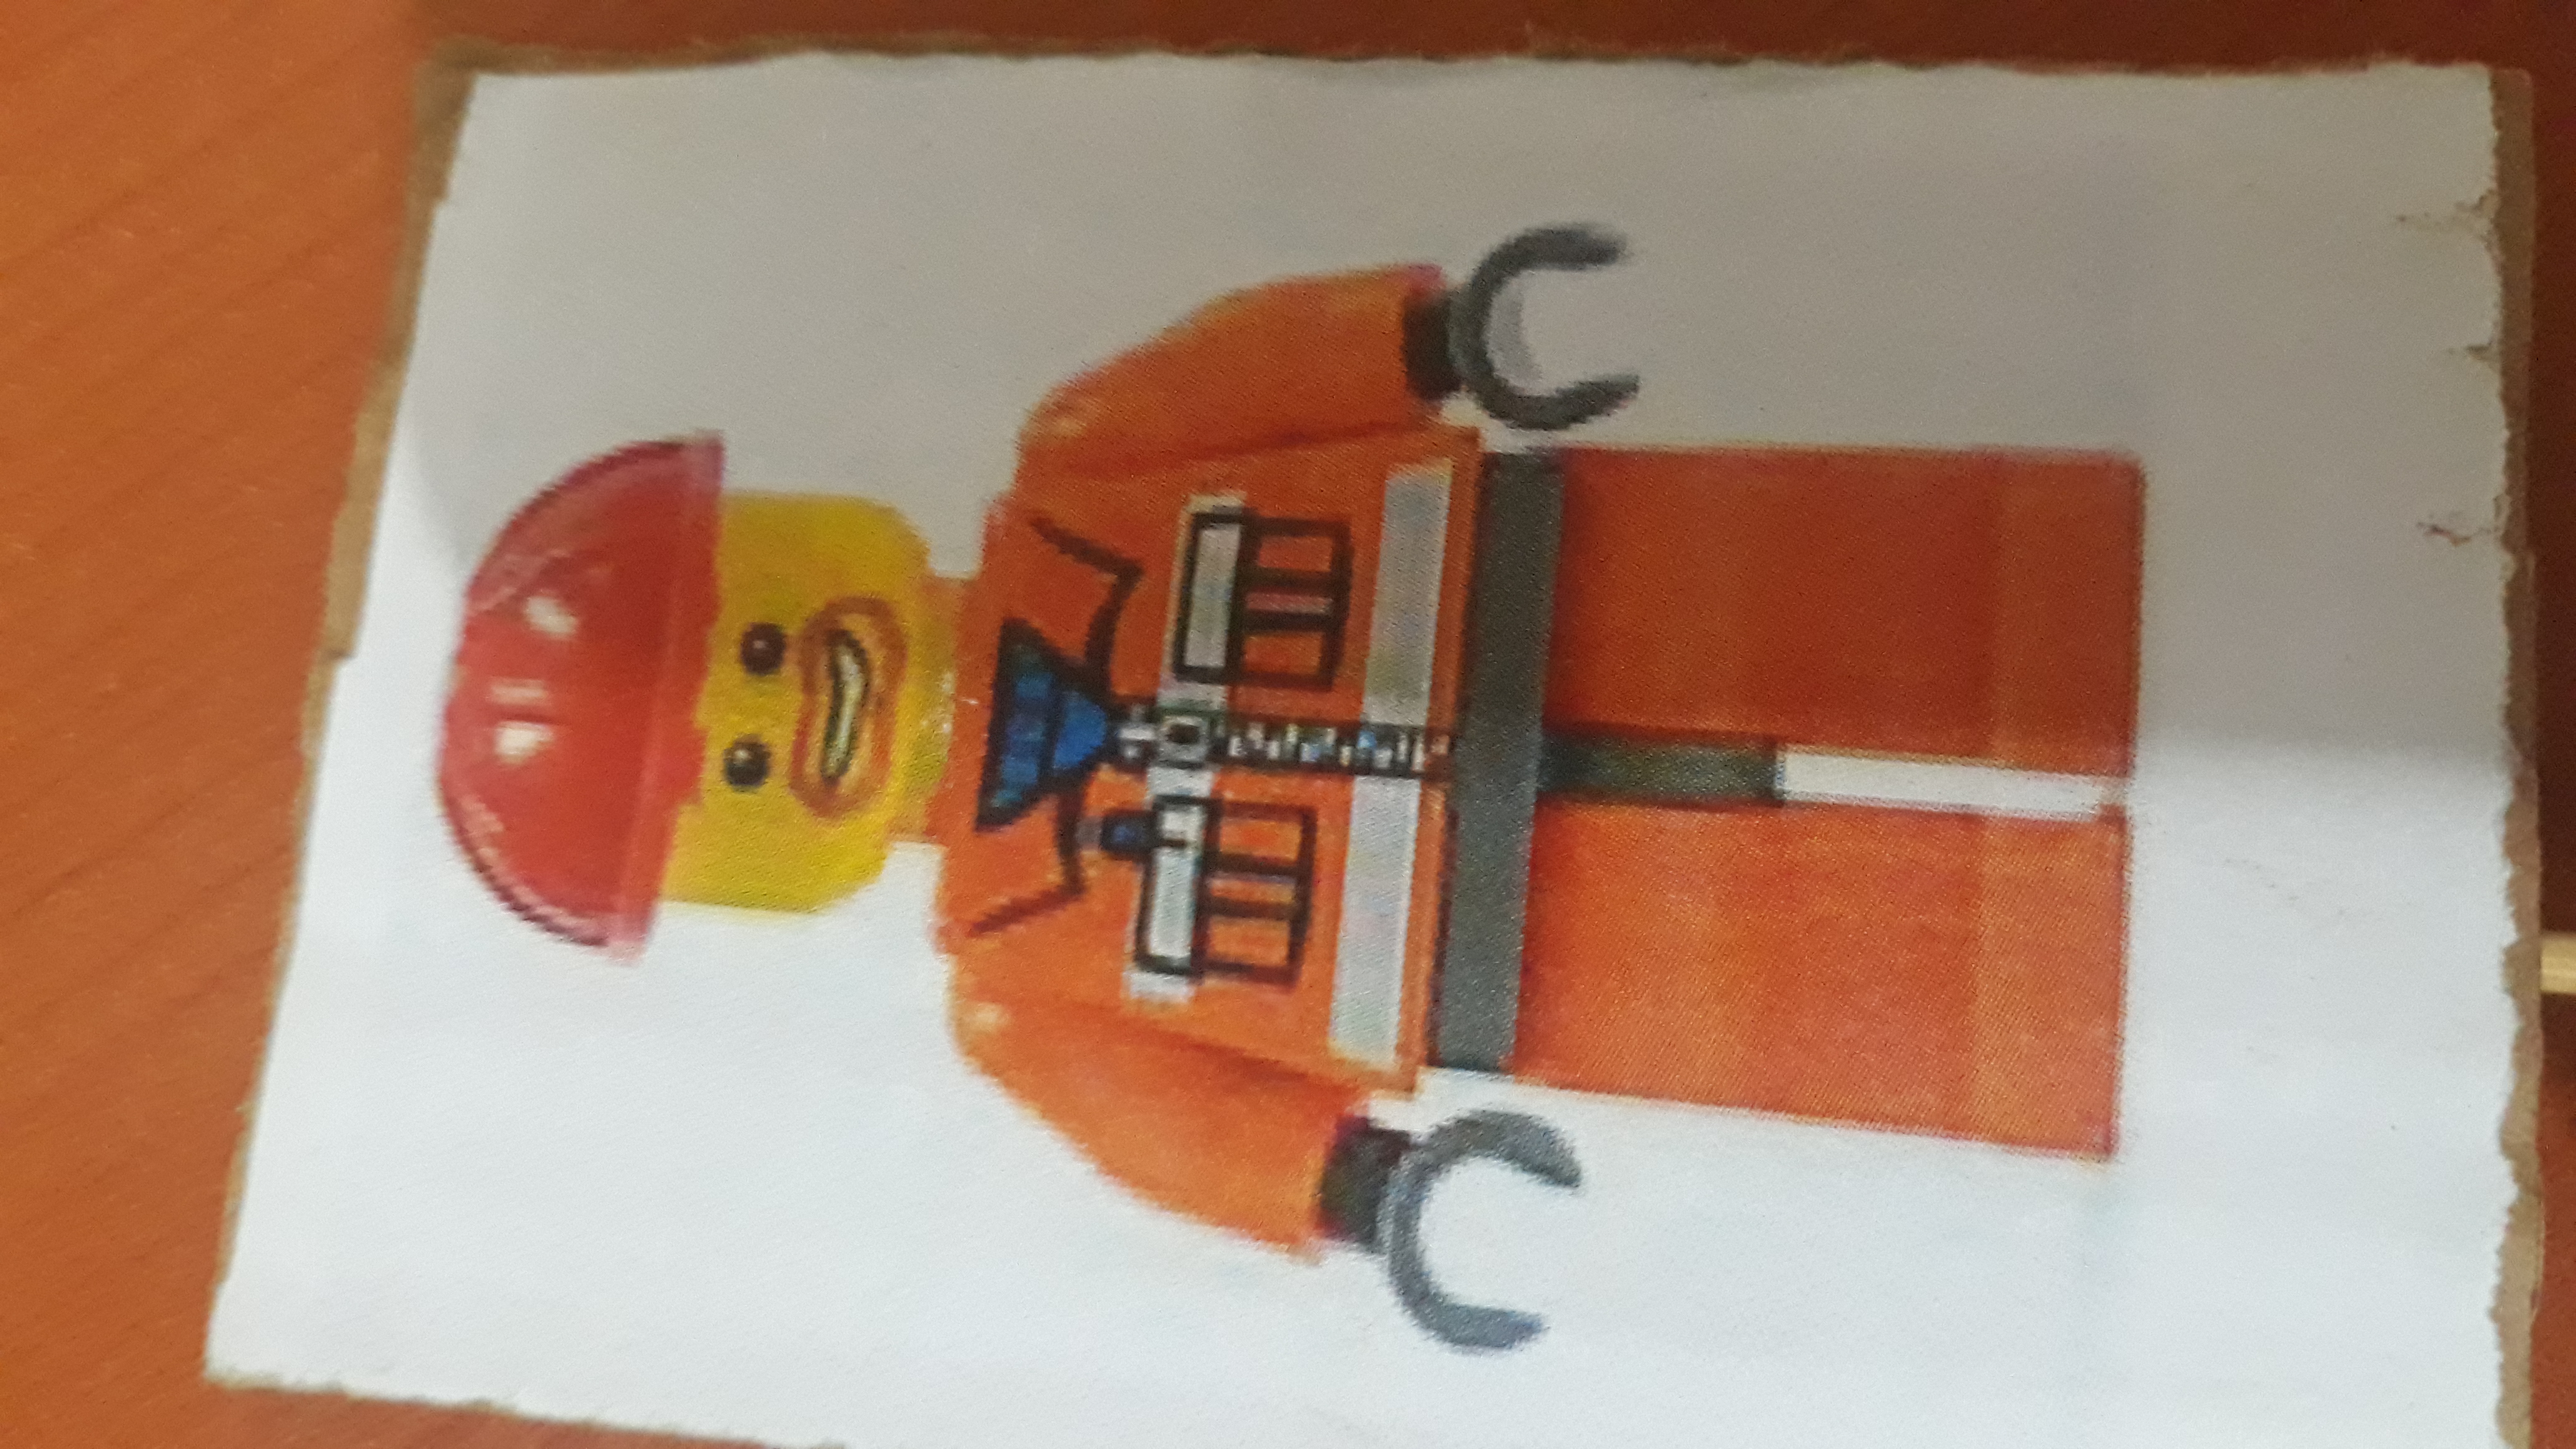pedestrian: (446, 165, 2218, 1371)
